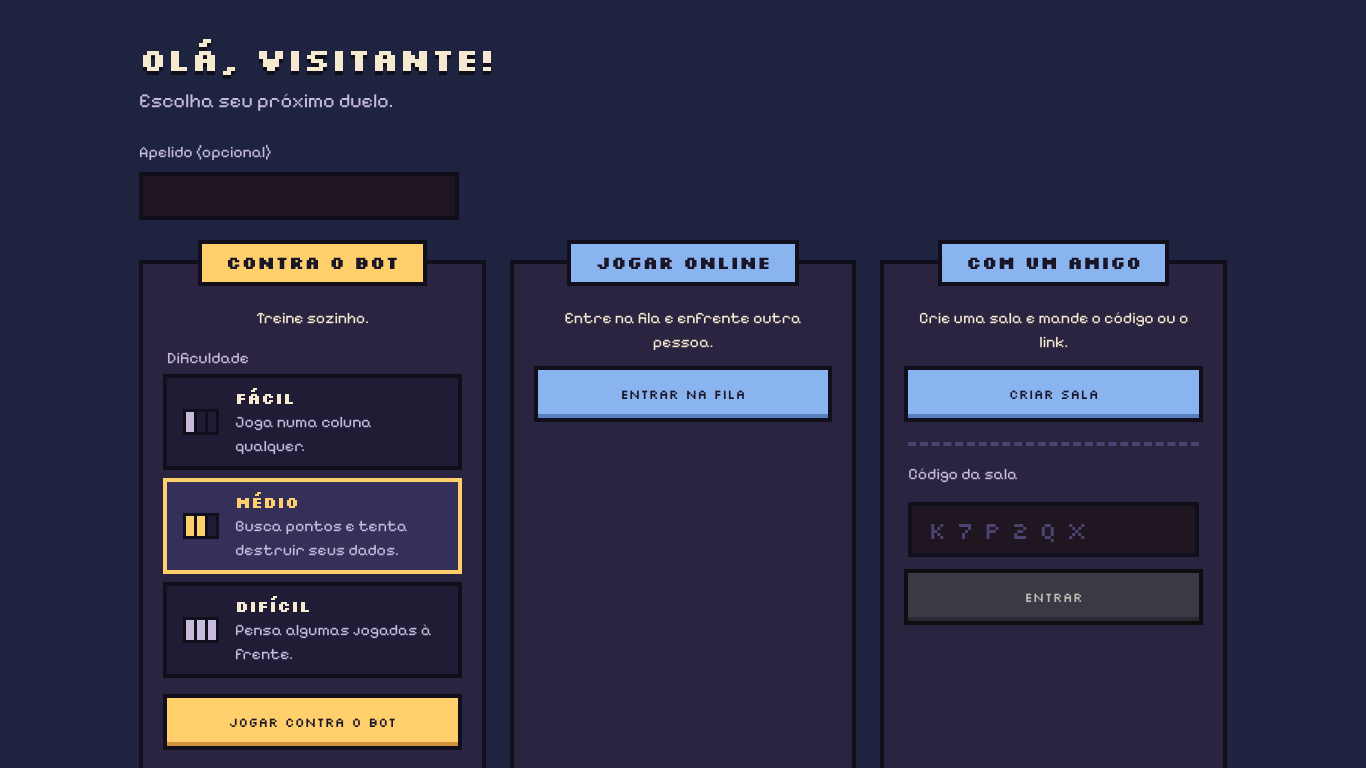
Test: Lobby › mostra a espera quando o servidor confirma a fila
Click the button "Entrar na fila": (683,394) [538,370,828,418]
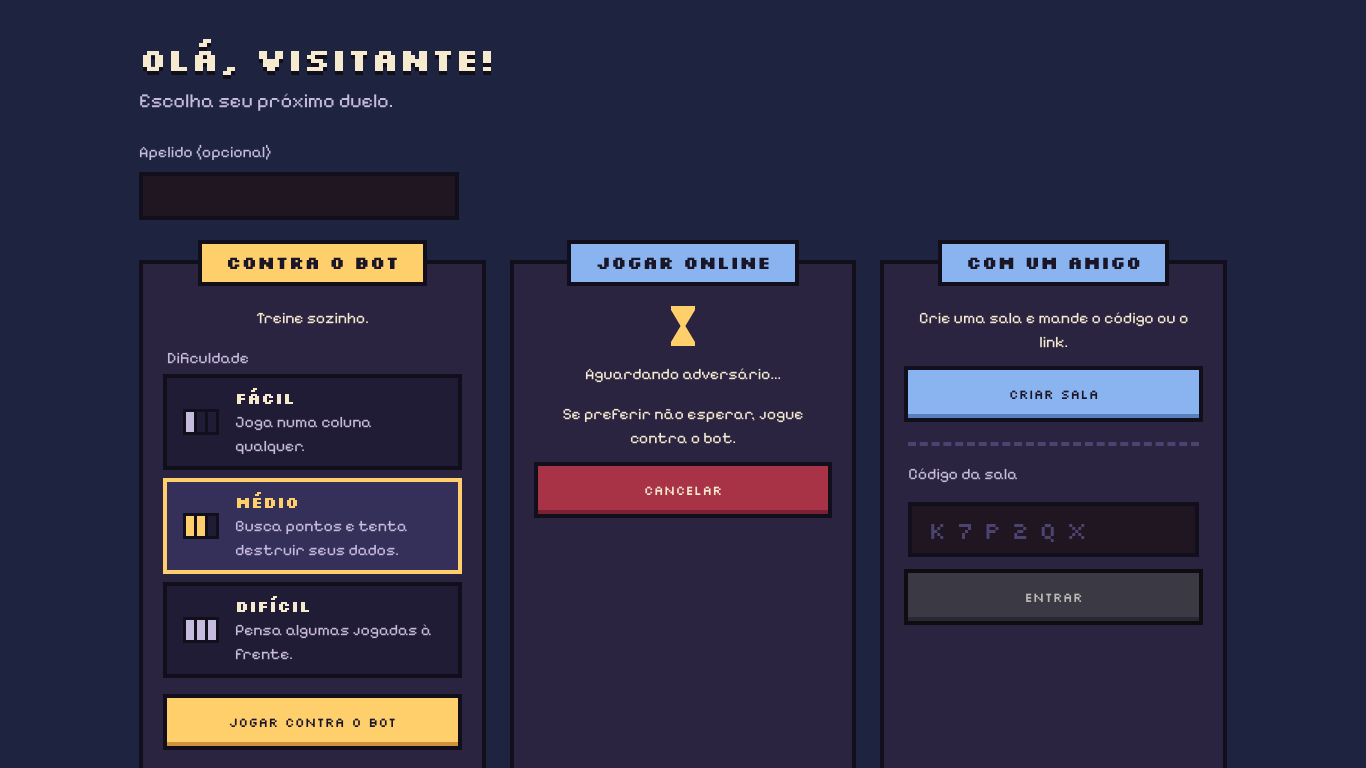
expect the message shows "Aguardando adversário": met, box [585,364,781,383]
